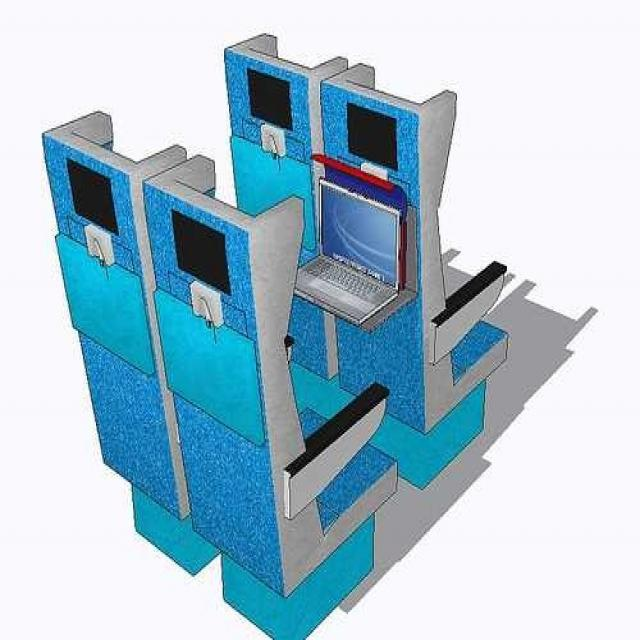laptop: (292, 180, 409, 321)
